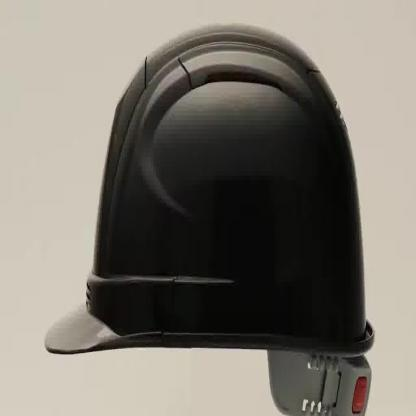helmet: (44, 17, 376, 416)
